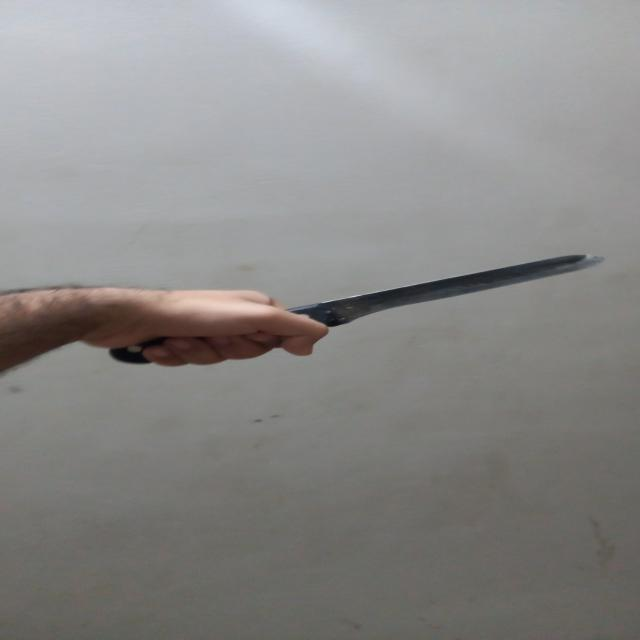weapon: (86, 249, 622, 370)
